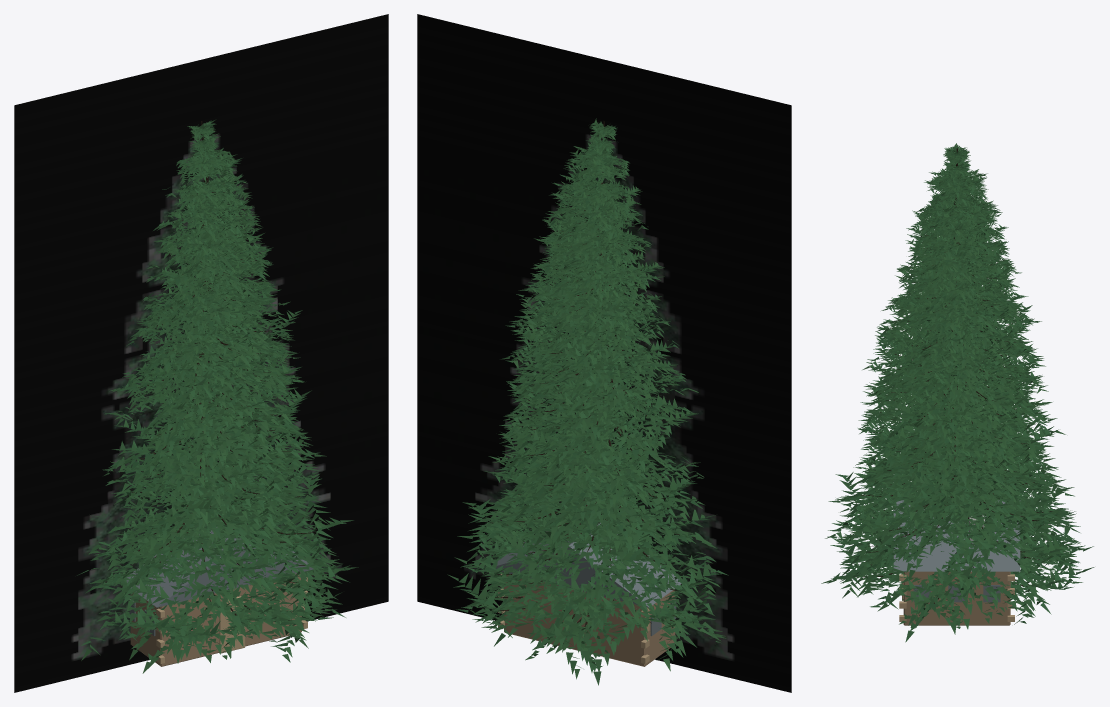
The model's file is environment.glb.
The picture shows the model from 3 angles, left to right: view 1: azimuth 30°, elevation 25°; view 2: azimuth 150°, elevation 25°; view 3: azimuth 270°, elevation 25°; orthographic projection. The views are drawn at different scales.
Visible parts, largest first — view 1: SpruceA_Far, SpruceC_Near, SpruceA_Near, SpruceB_Near, Cabin_Mesh; view 2: SpruceA_Far, SpruceC_Near, SpruceA_Near, SpruceB_Near, Cabin_Mesh; view 3: SpruceC_Near, SpruceB_Near, SpruceA_Near, Cabin_Mesh.
Boxes of the visible parts, left/top/right/bottom form: SpruceA_Far: left=14, top=14, right=388, bottom=692; SpruceC_Near: left=77, top=119, right=333, bottom=663; SpruceA_Near: left=81, top=144, right=358, bottom=673; SpruceB_Near: left=89, top=133, right=349, bottom=657; Cabin_Mesh: left=126, top=527, right=313, bottom=666; SpruceA_Far: left=417, top=14, right=791, bottom=692; SpruceC_Near: left=472, top=118, right=728, bottom=672; SpruceA_Near: left=447, top=142, right=726, bottom=685; SpruceB_Near: left=454, top=134, right=725, bottom=679; Cabin_Mesh: left=491, top=523, right=681, bottom=666; SpruceC_Near: left=836, top=143, right=1079, bottom=623; SpruceB_Near: left=825, top=160, right=1082, bottom=642; SpruceA_Near: left=821, top=171, right=1094, bottom=634; Cabin_Mesh: left=893, top=500, right=1020, bottom=625.
Size of the model in its own units: 15.33 by 23 by 11.09.
8 materials, 2 textured.
